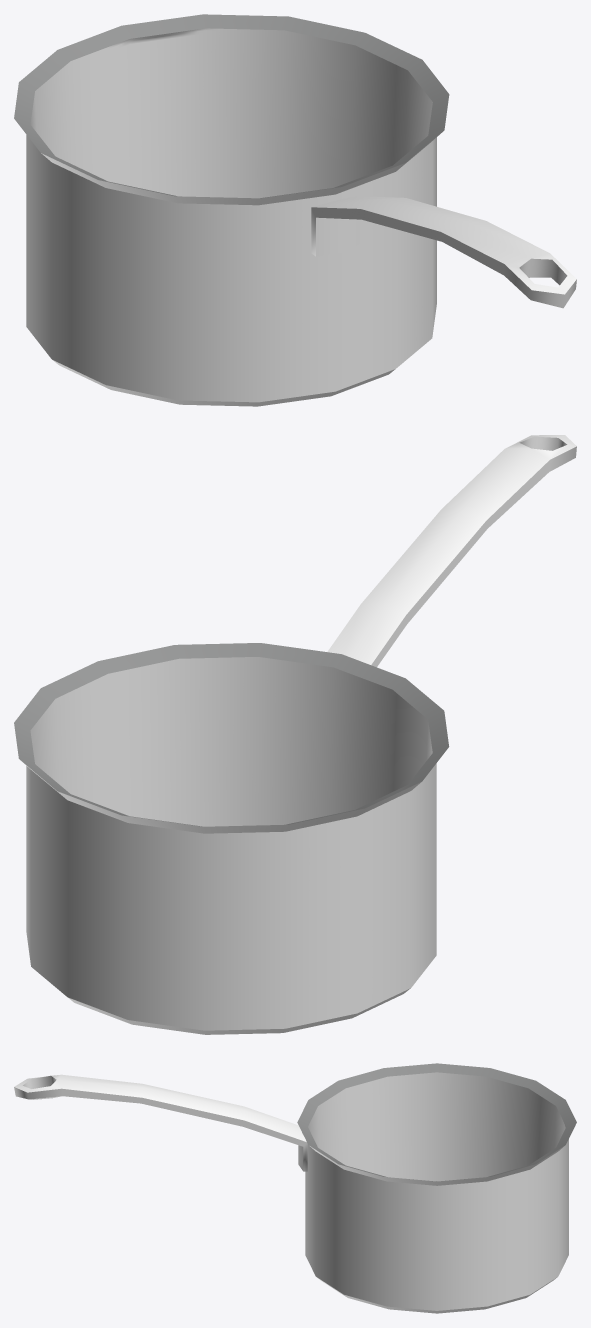
Rendered from Product_pan01.FBX.
The picture shows the model from 3 angles, top to bottom: view 1: azimuth 30°, elevation 25°; view 2: azimuth 150°, elevation 25°; view 3: azimuth 270°, elevation 25°; orthographic projection. The views are drawn at different scales.
Visible parts, largest first — view 1: product_pan01_LOD00; view 2: product_pan01_LOD00; view 3: product_pan01_LOD00.
Part boxes in pixels (left/top/right/bottom): product_pan01_LOD00: left=14, top=14, right=576, bottom=406; product_pan01_LOD00: left=14, top=435, right=576, bottom=1034; product_pan01_LOD00: left=14, top=1063, right=576, bottom=1313.
Size of what is drawn, in the model's own units: 0.193 by 0.1373 by 0.3884.
